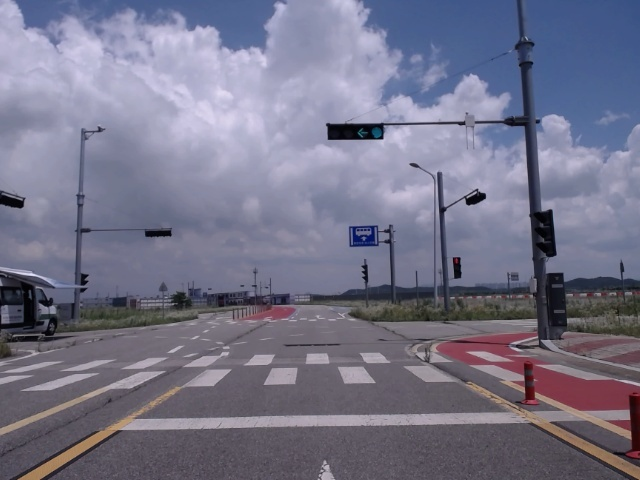all_green_4: (330, 126, 382, 139)
